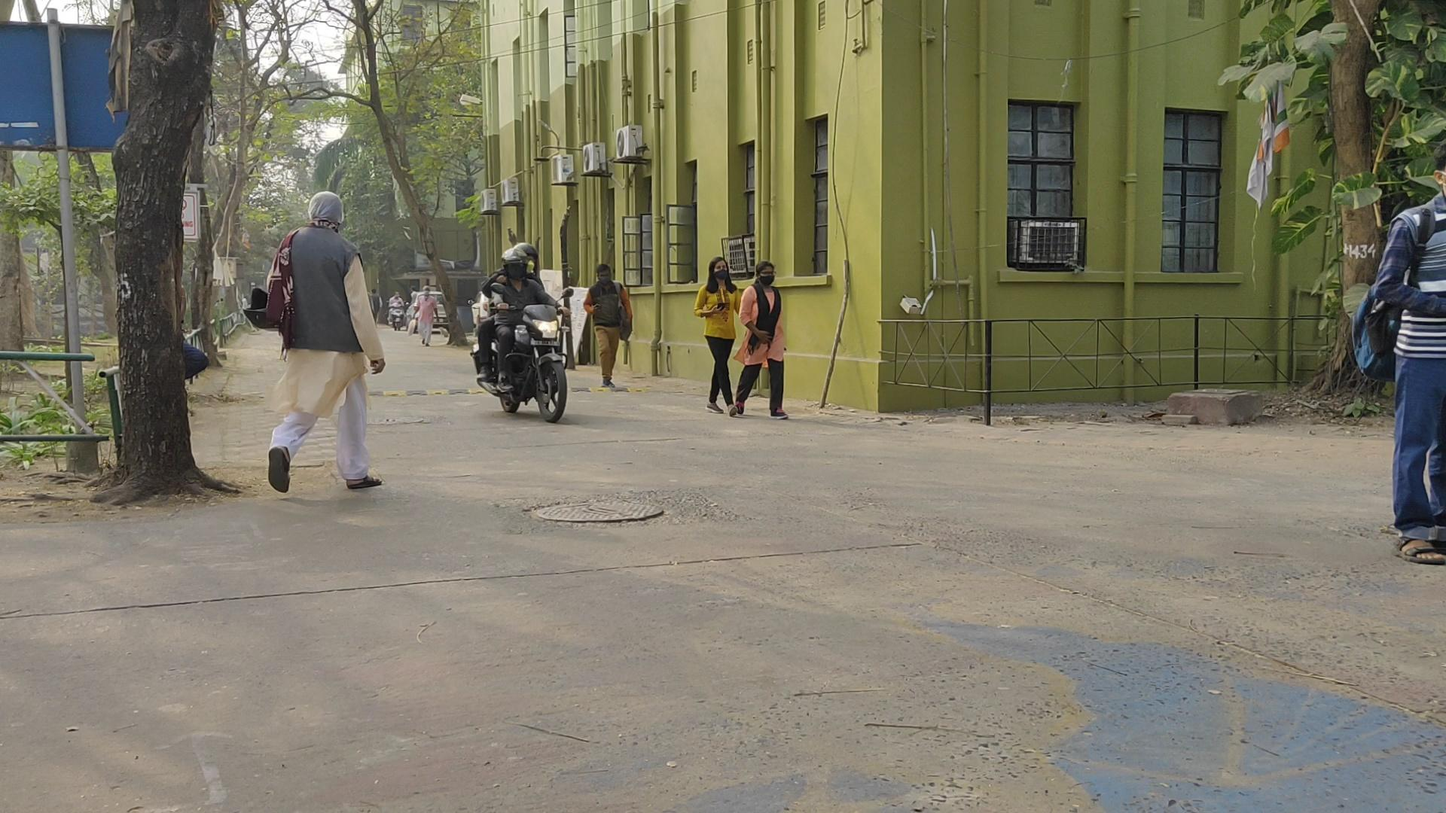bike: (472, 242, 568, 423), (386, 292, 407, 332)
car: (406, 292, 450, 333)
